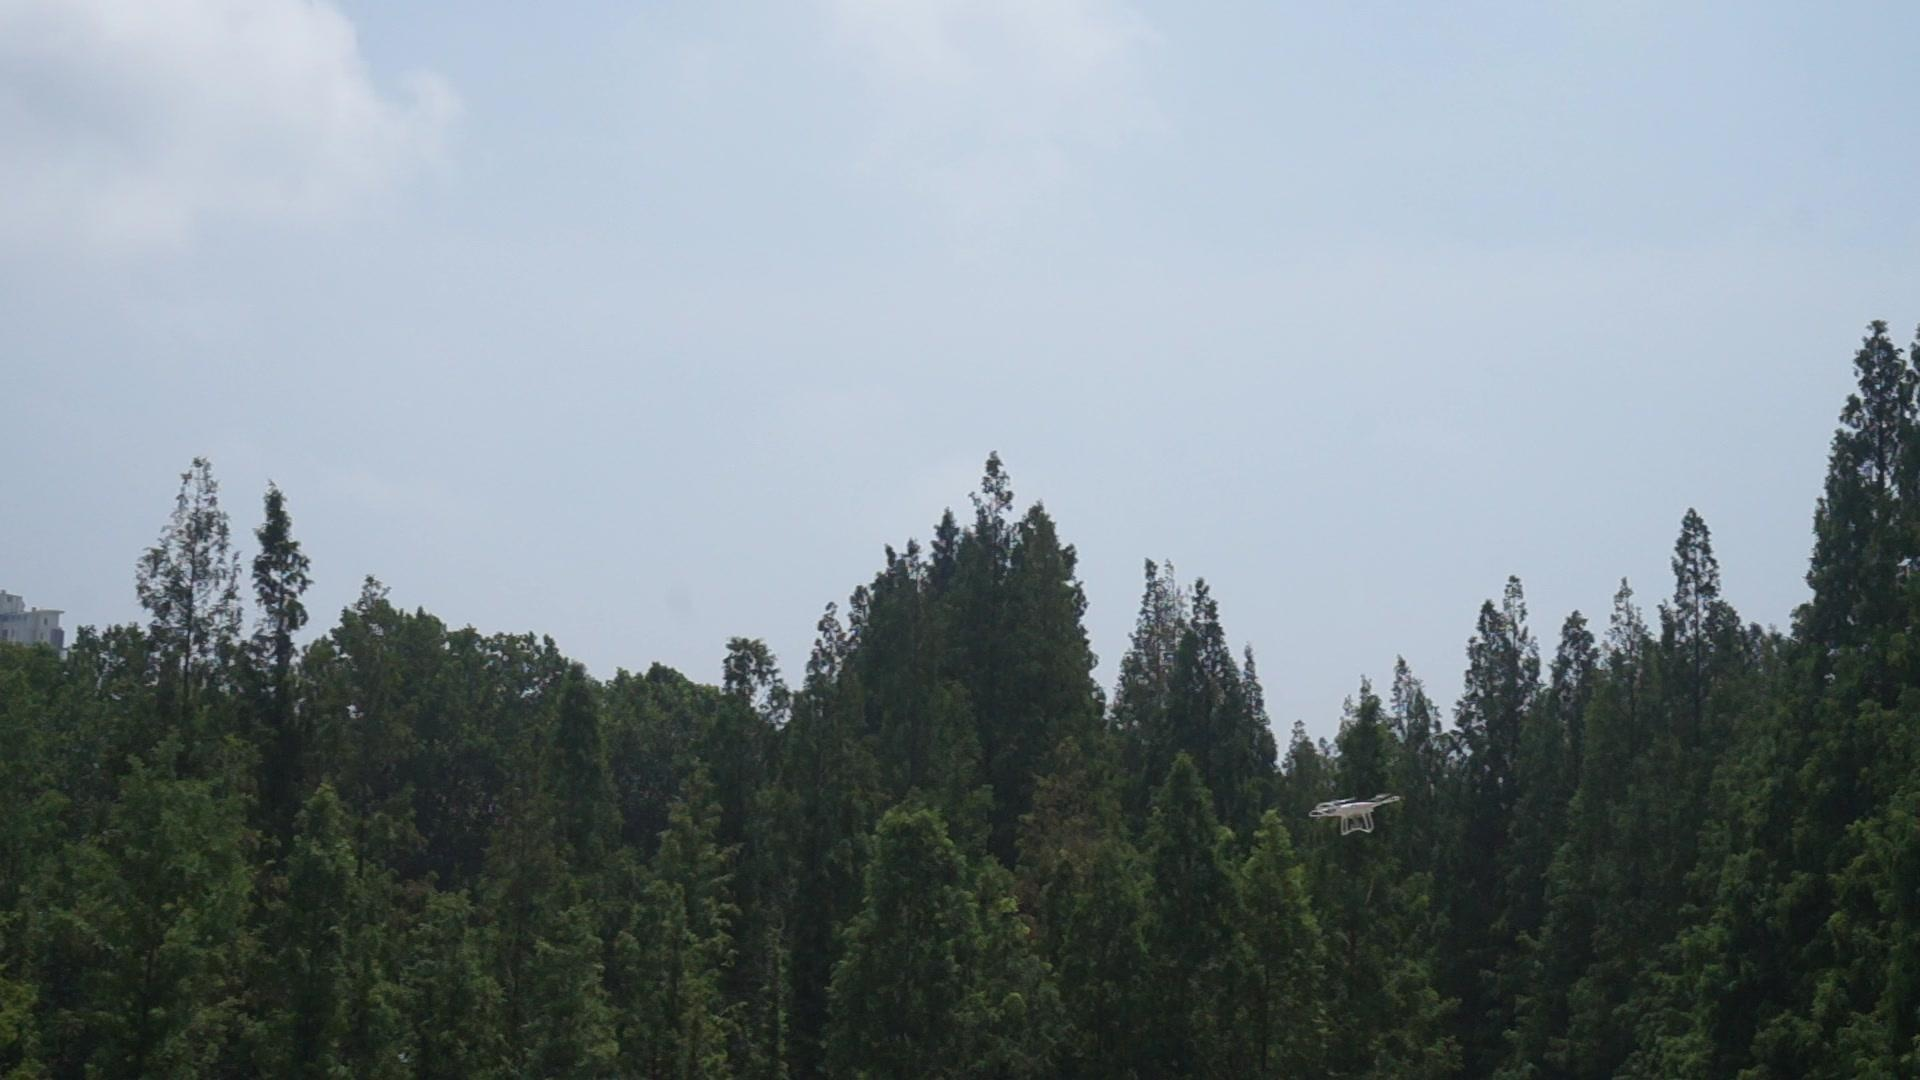UAV: (1309, 795, 1402, 837)
